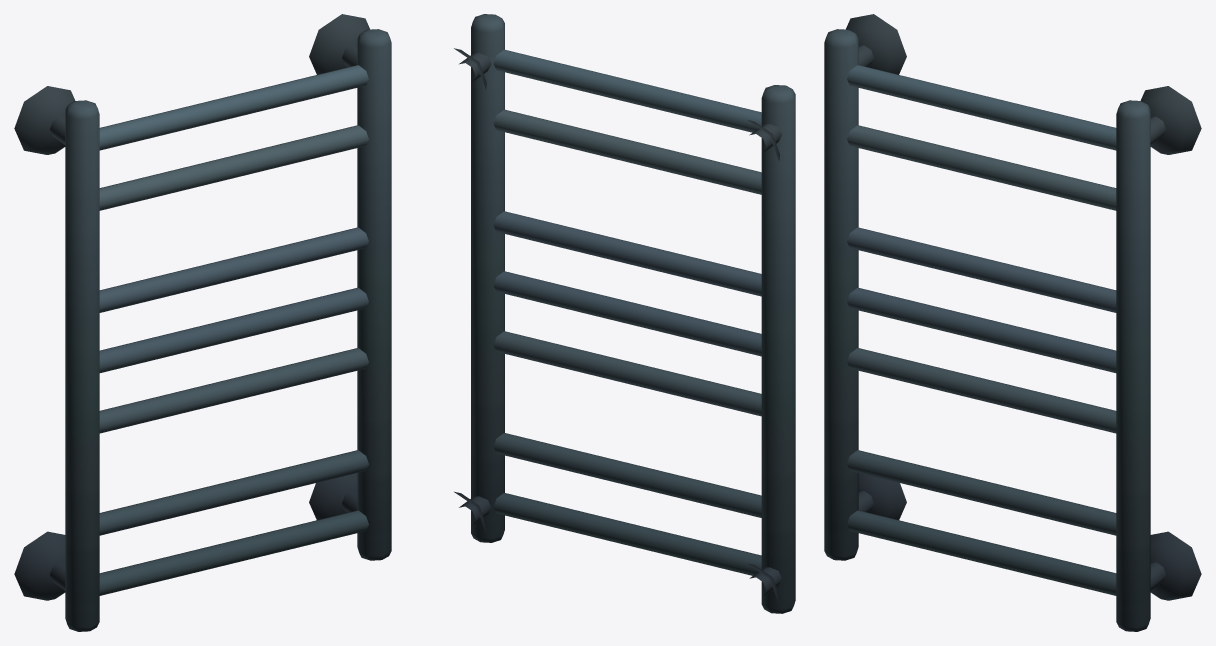
The model's file is Bath_Prop_07.glb.
The picture shows the model from 3 angles, left to right: view 1: azimuth 30°, elevation 25°; view 2: azimuth 150°, elevation 25°; view 3: azimuth 330°, elevation 25°; orthographic projection.
Parts seen in each view (by area): view 1: Bath_Prop_07; view 2: Bath_Prop_07; view 3: Bath_Prop_07.
Part boxes in pixels (box(x1,y1,x2,y2)): Bath_Prop_07: box(14, 14, 391, 631); Bath_Prop_07: box(454, 14, 795, 613); Bath_Prop_07: box(824, 14, 1201, 631).
Bounding box in the file's own units: 0.4549 × 0.6312 × 0.093.
Materials: 1 (1 with a texture image).
